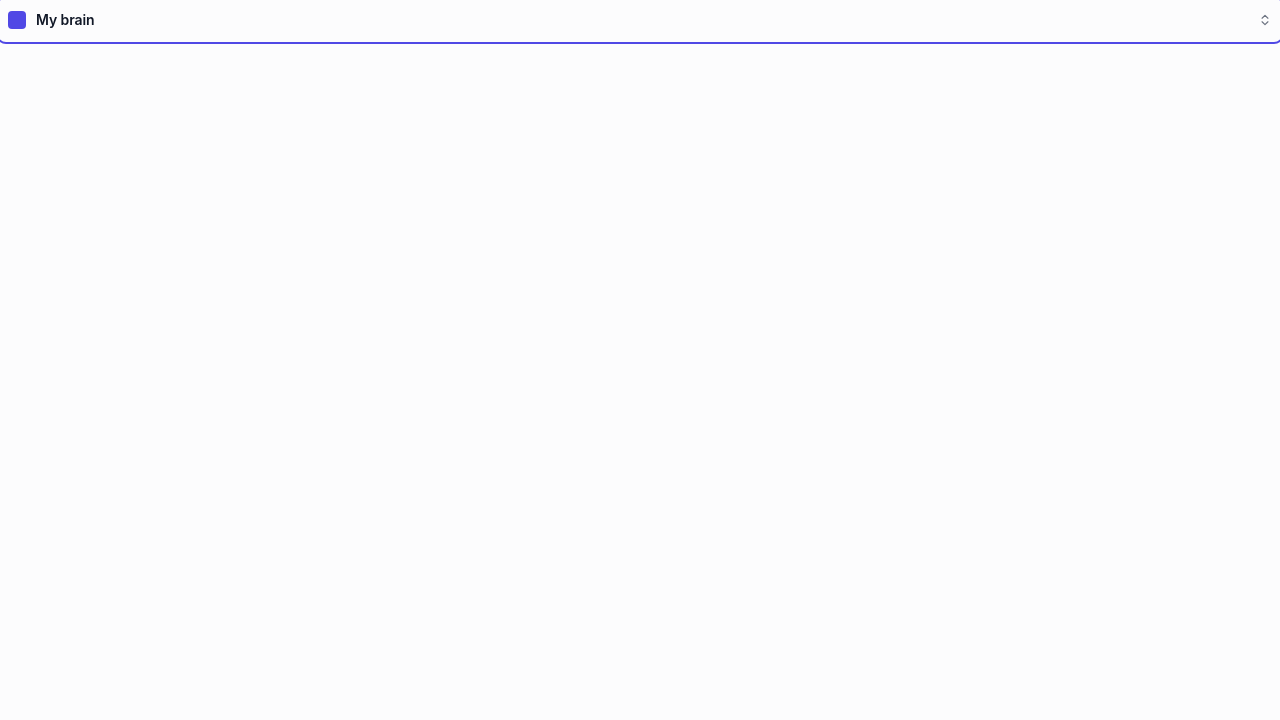
Test: BrainSwitcher › keeps a failed switch in the menu and offers another folder
Press Enter in the button "My brain", box [0,0,1279,40]
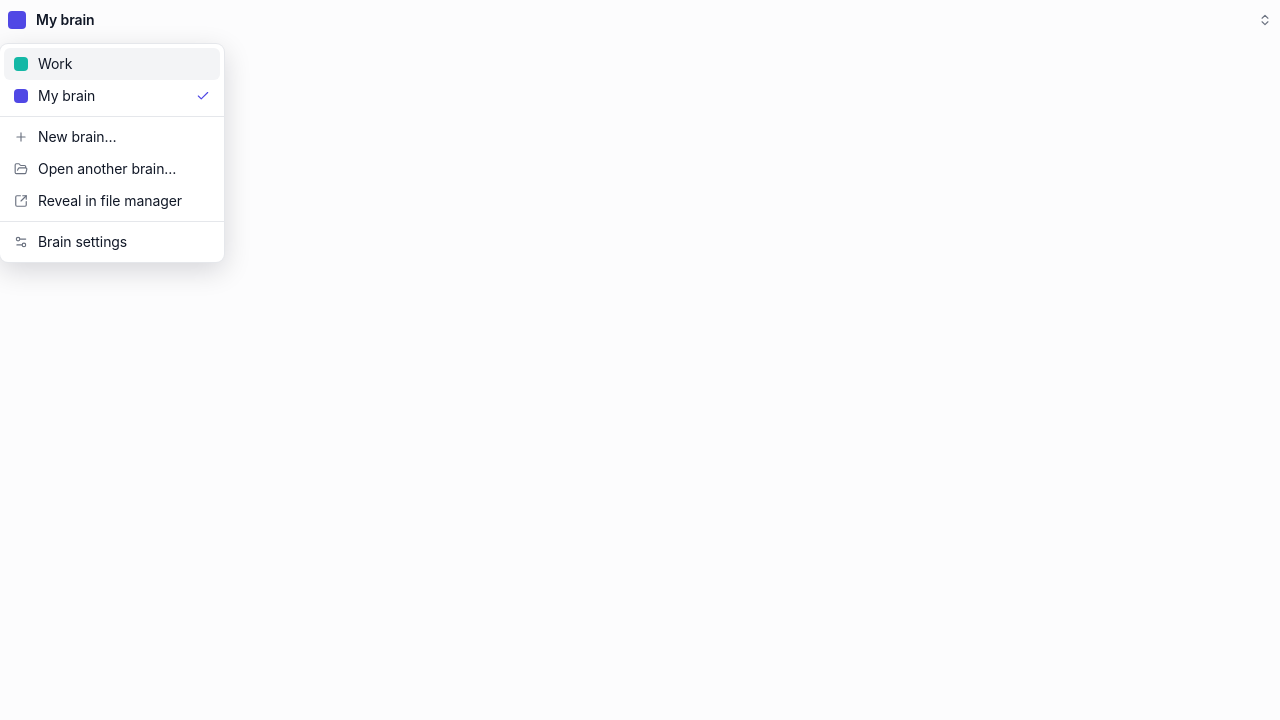
Click the menu item "Work".
click(112, 64)  # box [4,48,220,80]
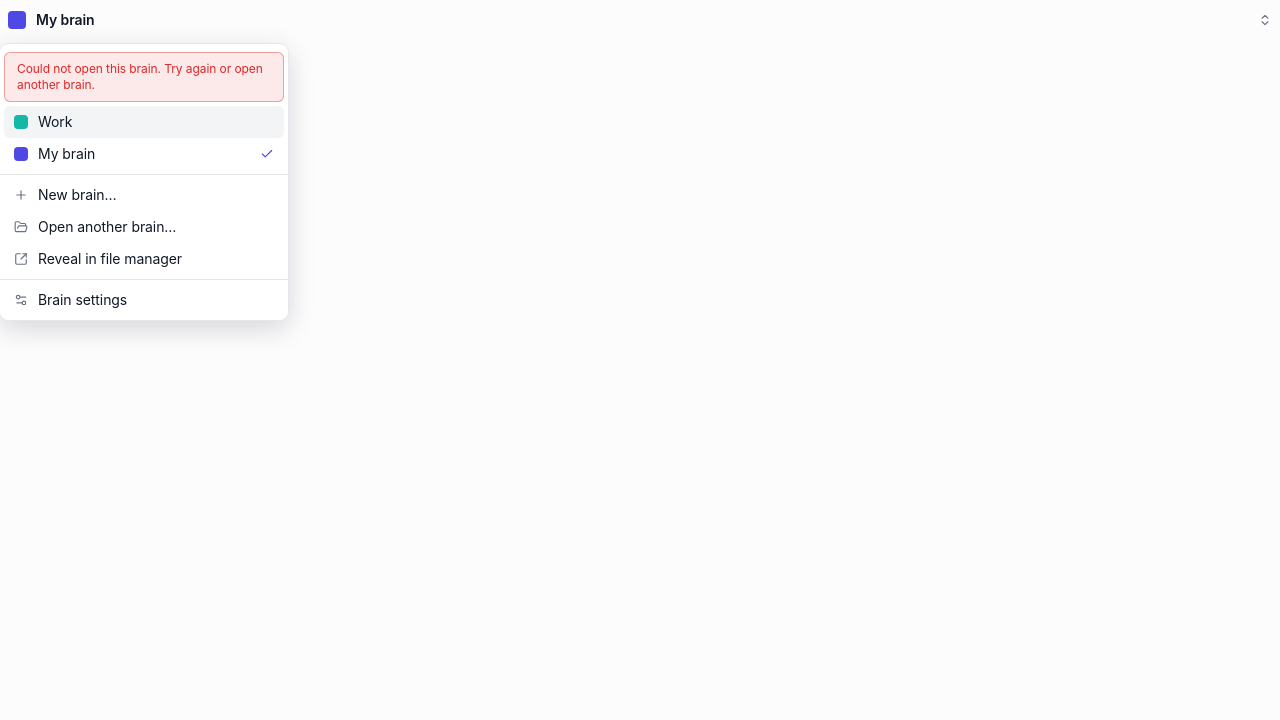
Expected: the menu is shown, [0,44,288,320]
Expected: the message "Could not open this brain. Try again or open another brain." is shown, [4,52,284,102]
Click the menu item "Open another brain…".
click(95, 226)  # box [14,218,176,235]
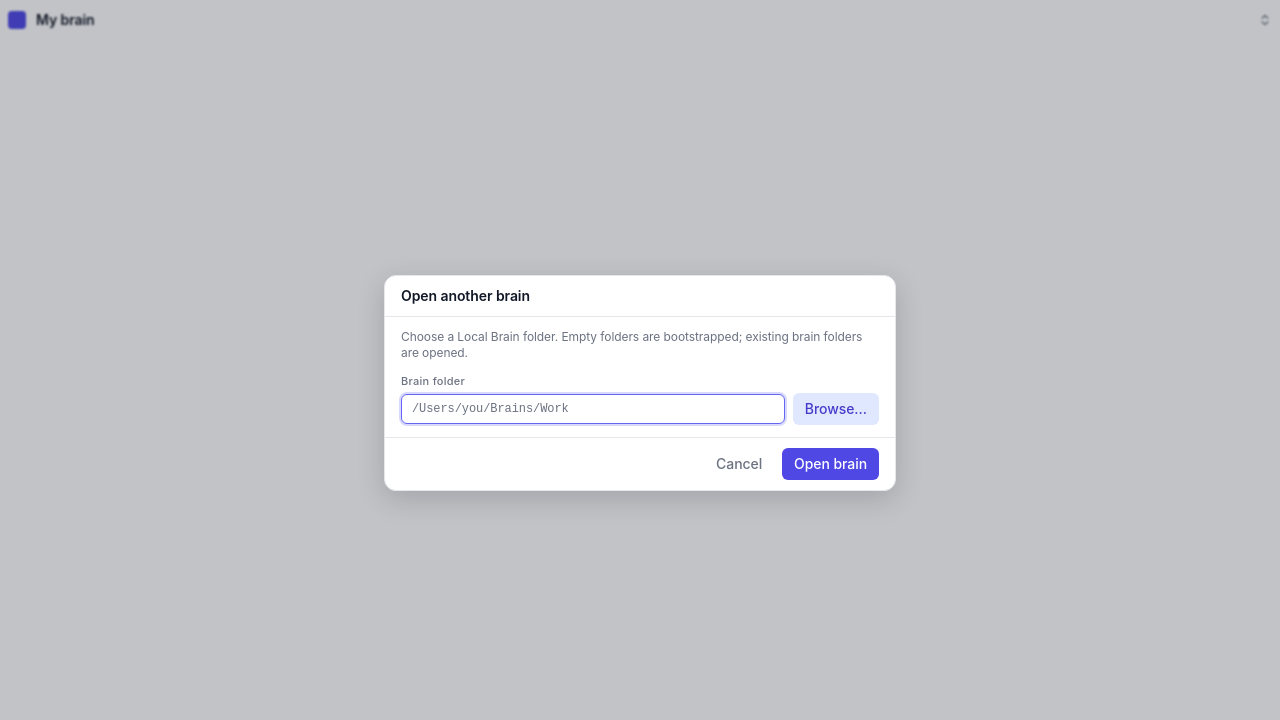
Expected: the dialog "Open another brain" is shown, [384,275,896,491]
Expected: the message "Could not open this brain. Try again or open another brain." is gone
